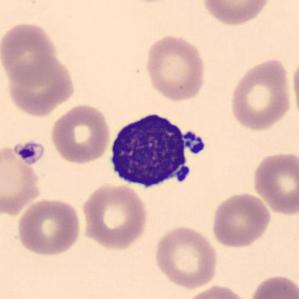Lymphocyte: (103, 106, 209, 194)
Platelets: (14, 138, 46, 166), (183, 130, 208, 156)
RBC: (227, 56, 294, 133), (79, 181, 150, 252), (143, 32, 208, 103), (4, 54, 76, 117), (152, 224, 219, 290), (14, 196, 83, 257), (49, 102, 112, 166), (0, 20, 60, 86), (210, 190, 274, 249), (250, 149, 299, 218), (0, 142, 43, 217), (200, 0, 274, 27), (247, 272, 298, 299), (179, 283, 251, 299)
